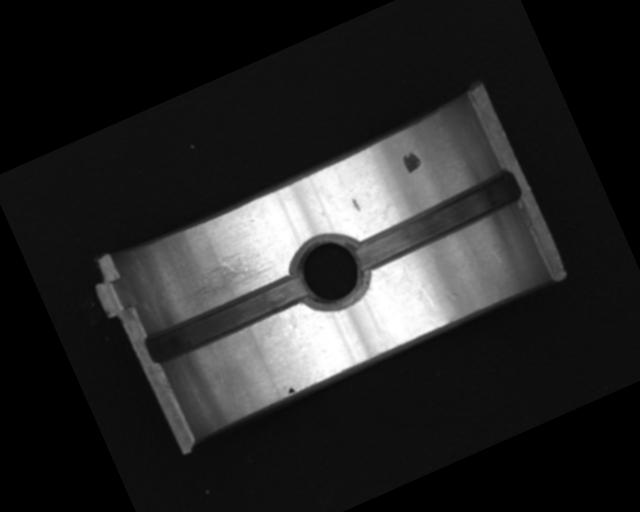blot: (399, 148, 424, 174), (282, 382, 296, 397)
bruise: (350, 196, 362, 212)
gap: (345, 165, 524, 273), (143, 273, 309, 367)
hole: (282, 226, 375, 321)
nick: (400, 254, 435, 310)
scratch: (166, 245, 278, 315)
